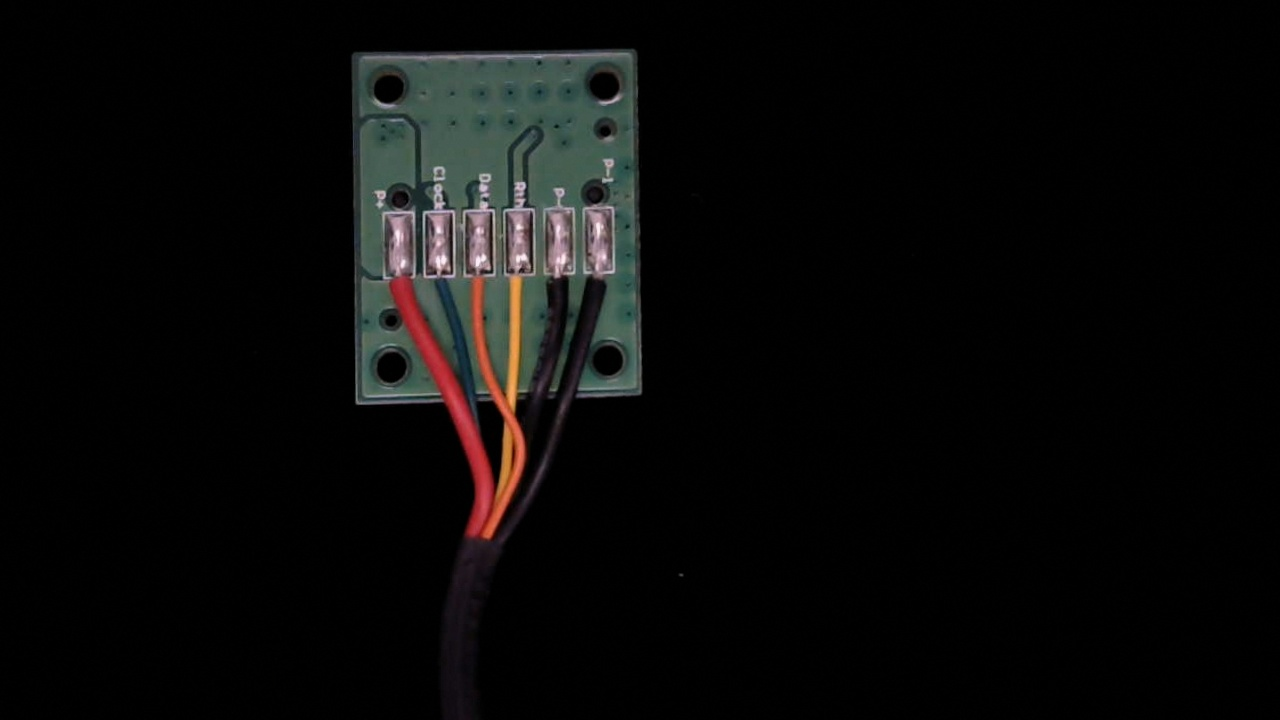Black: (543, 253, 576, 325)
Black1: (583, 256, 617, 326)
Green: (425, 258, 457, 322)
Orange: (464, 255, 495, 321)
Red: (385, 259, 417, 328)
Yellow: (504, 252, 536, 324)
